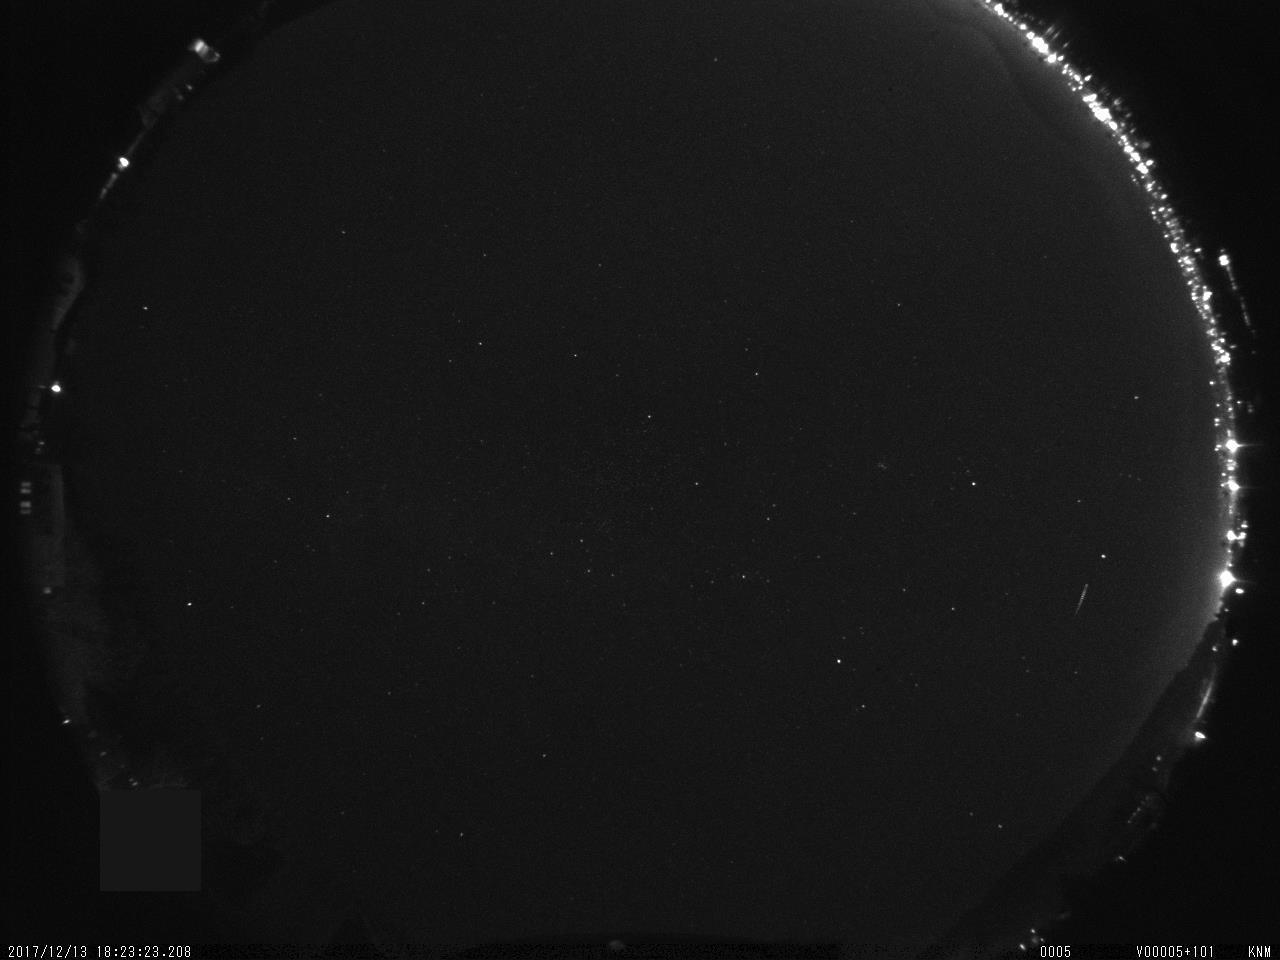Meteor: (1067, 579, 1096, 621)
